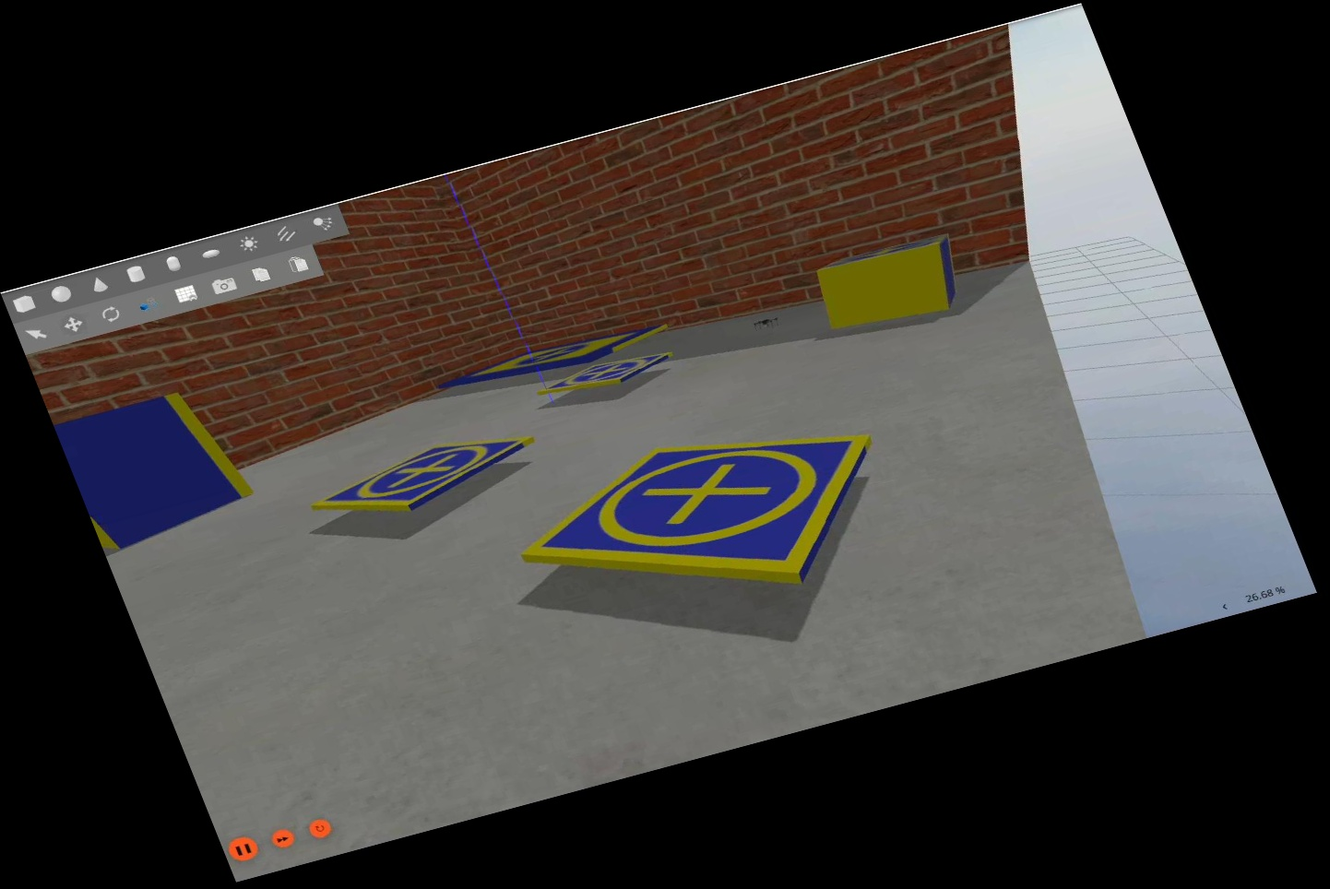large_base: (431, 310, 681, 406)
small_base: (496, 393, 926, 649), (300, 417, 552, 536), (533, 342, 679, 406), (812, 225, 956, 281)
